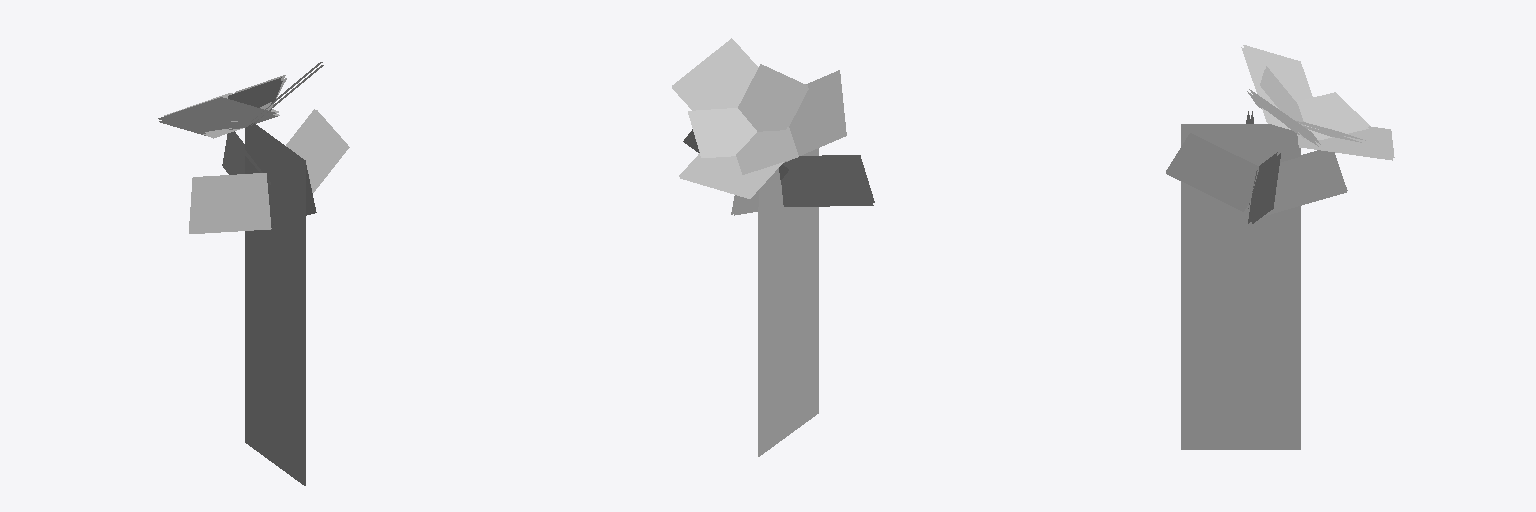
The model's file is flower3.obj.
3 renders of one model, left to right at view 1: azimuth 30°, elevation 25°; view 2: azimuth 150°, elevation 25°; view 3: azimuth 270°, elevation 25°, orthographic.
Parts seen in each view (by area): view 1: flower4_Plane.021; view 2: flower4_Plane.021; view 3: flower4_Plane.021.
Boxes of the visible parts, <box> form: flower4_Plane.021: <box>158,62,349,485</box>; flower4_Plane.021: <box>672,38,874,456</box>; flower4_Plane.021: <box>1166,45,1394,449</box>.
Size of the model in its own units: 3.11 by 6.5 by 3.48.